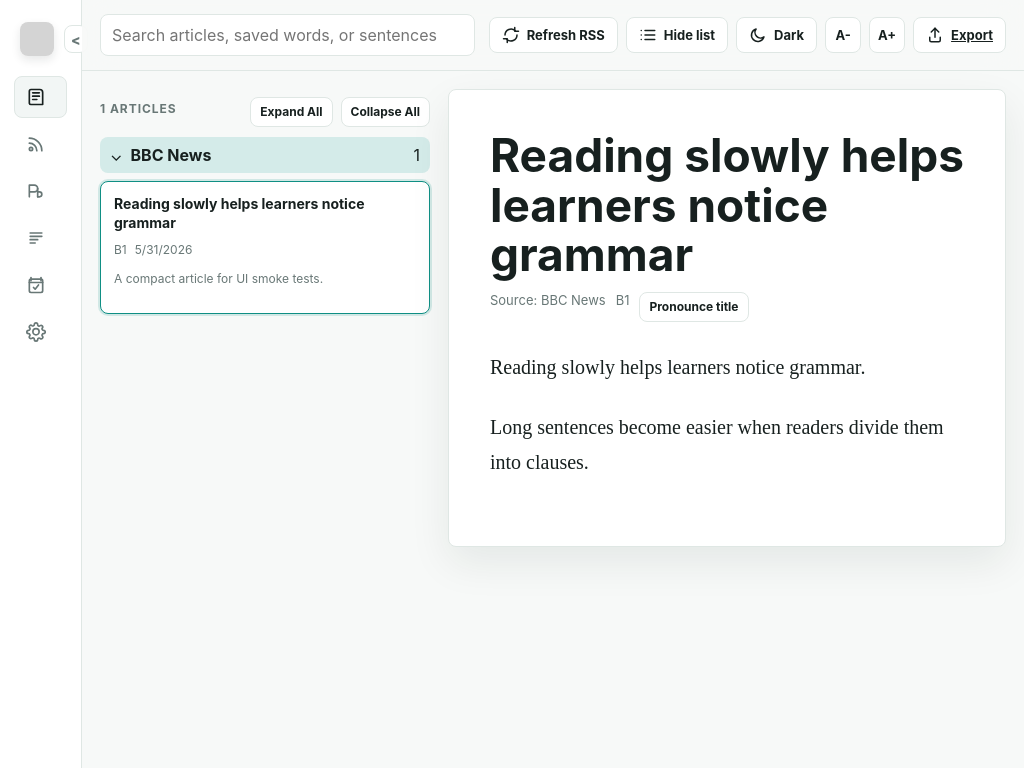
Test case: MagReader UI smoke › opens the learning sheet from a sentence selection and keeps translation visible
The image size is (1024, 768).
Press the mouse on the text "Reading slowly helps learners notice grammar." at (678, 367), box top-left (490, 356), bottom-right (866, 378)
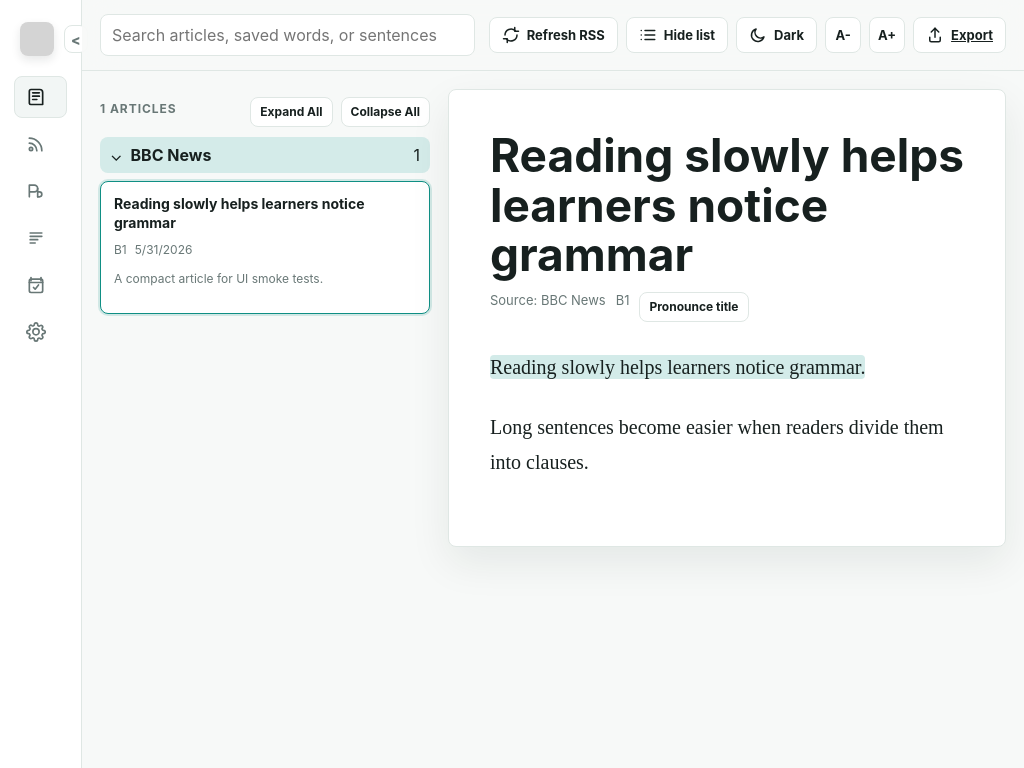
Expected: the number of elements with class "reader-selection-highlight" is 1
Click the text with class "reader-selection-highlight".
click(678, 367)  # box top-left (490, 355), bottom-right (866, 379)
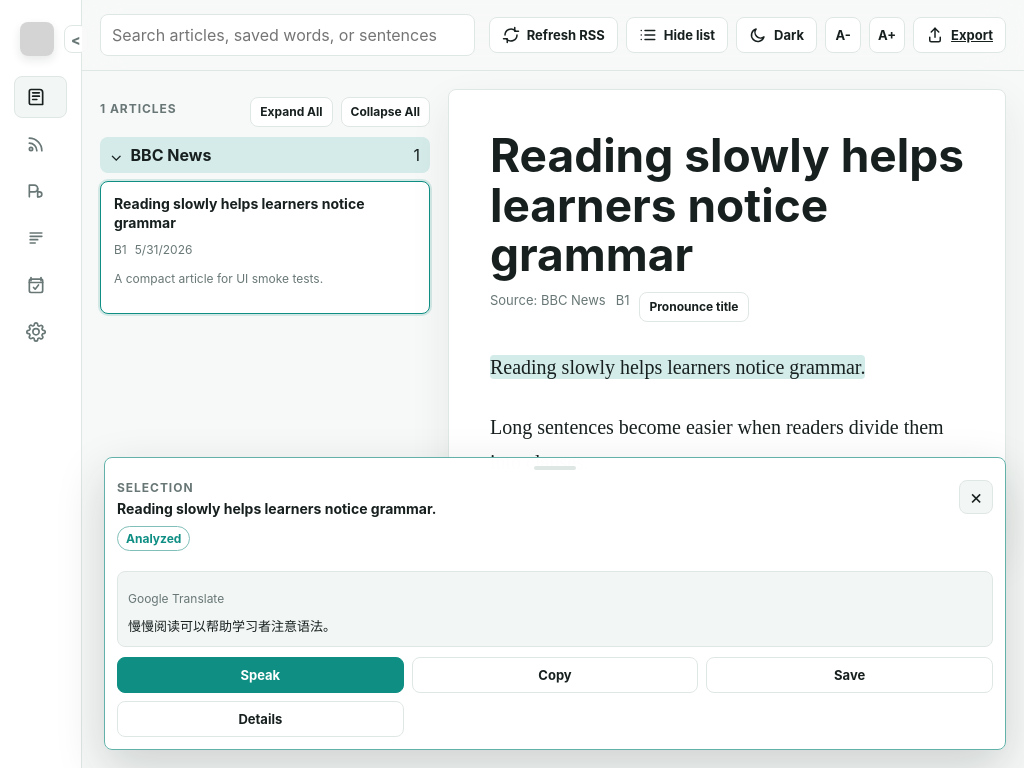
Expected: the element with class "mobile-learning-sheet" shows "Reading slowly helps learners notice grammar.", top-left (117, 500), bottom-right (436, 517)
Expected: the element with class "mobile-learning-sheet" shows "Google Translate", top-left (128, 592), bottom-right (224, 606)
Expected: the element with class "mobile-learning-sheet" shows "Details", top-left (117, 701), bottom-right (404, 737)
